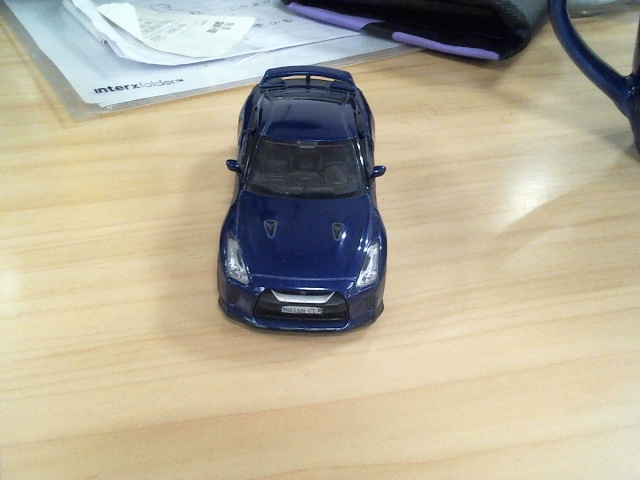car: (216, 65, 389, 334)
